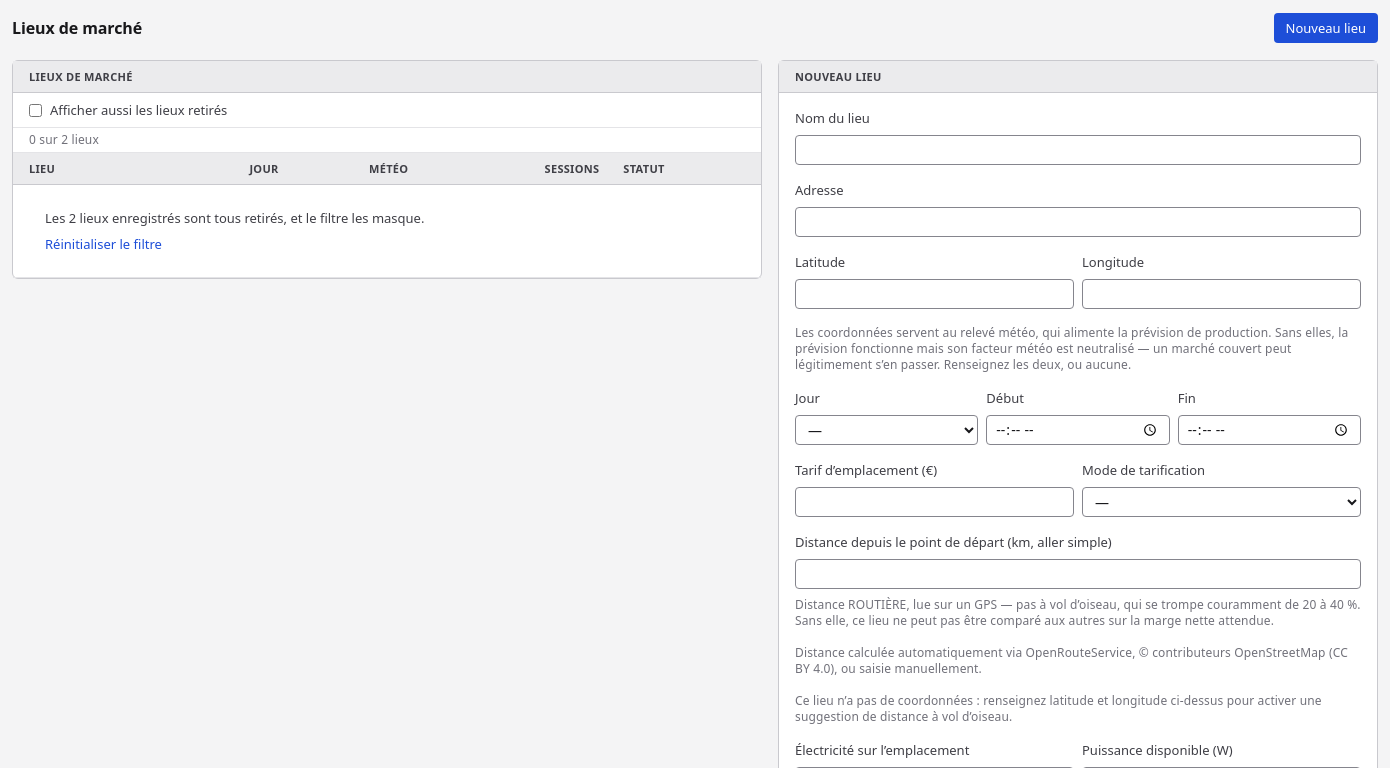
Lieux de marché — chargement, erreur, vide › liste non vide mais masquée par le filtre : l’état vide nomme LE filtre, pas le vide
Expected: the text "Les 2 lieux enregistrés sont tous retirés, et le filtre les masque." is shown, [45,209,424,227]
Click the button "Réinitialiser le filtre".
click(103, 244)  # box [45,235,162,253]
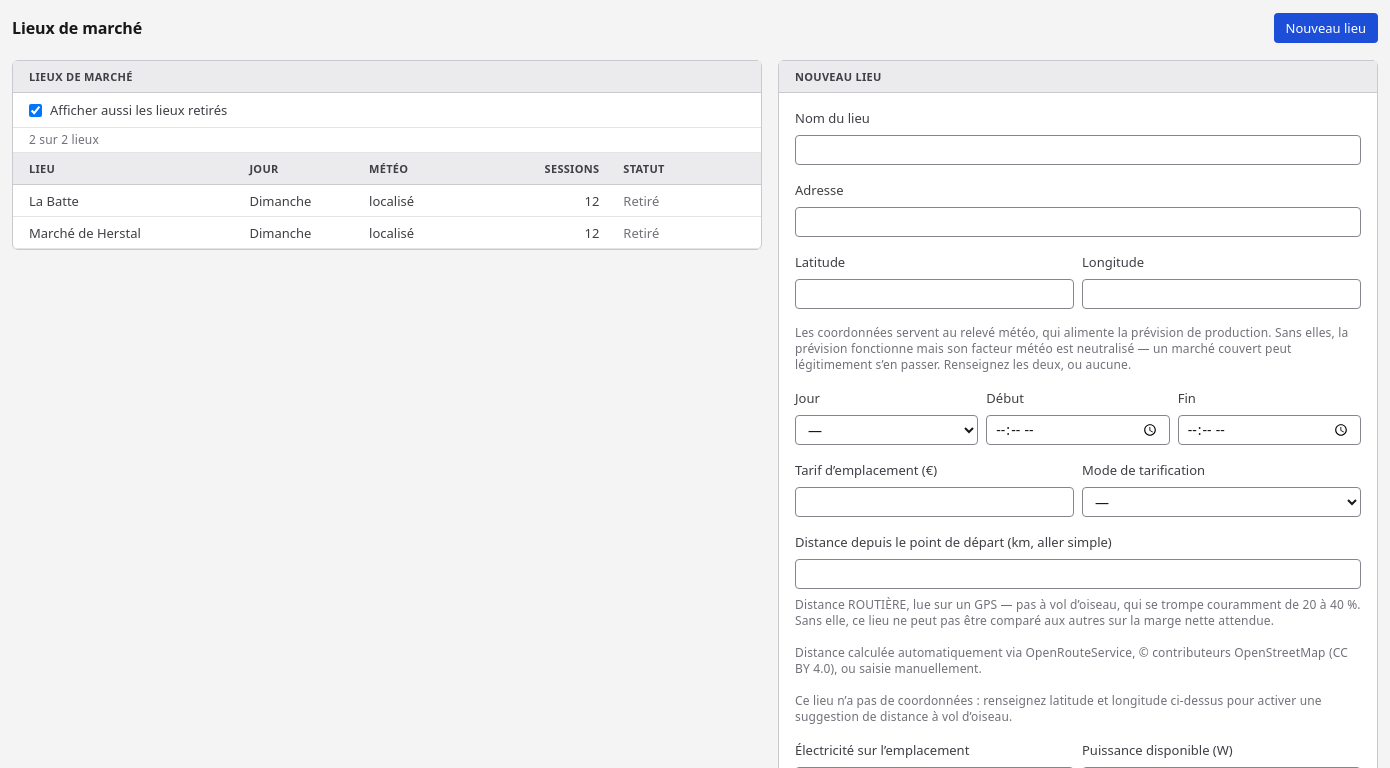
Expected: the text "Marché de Herstal" is shown, [13,217,237,249]
